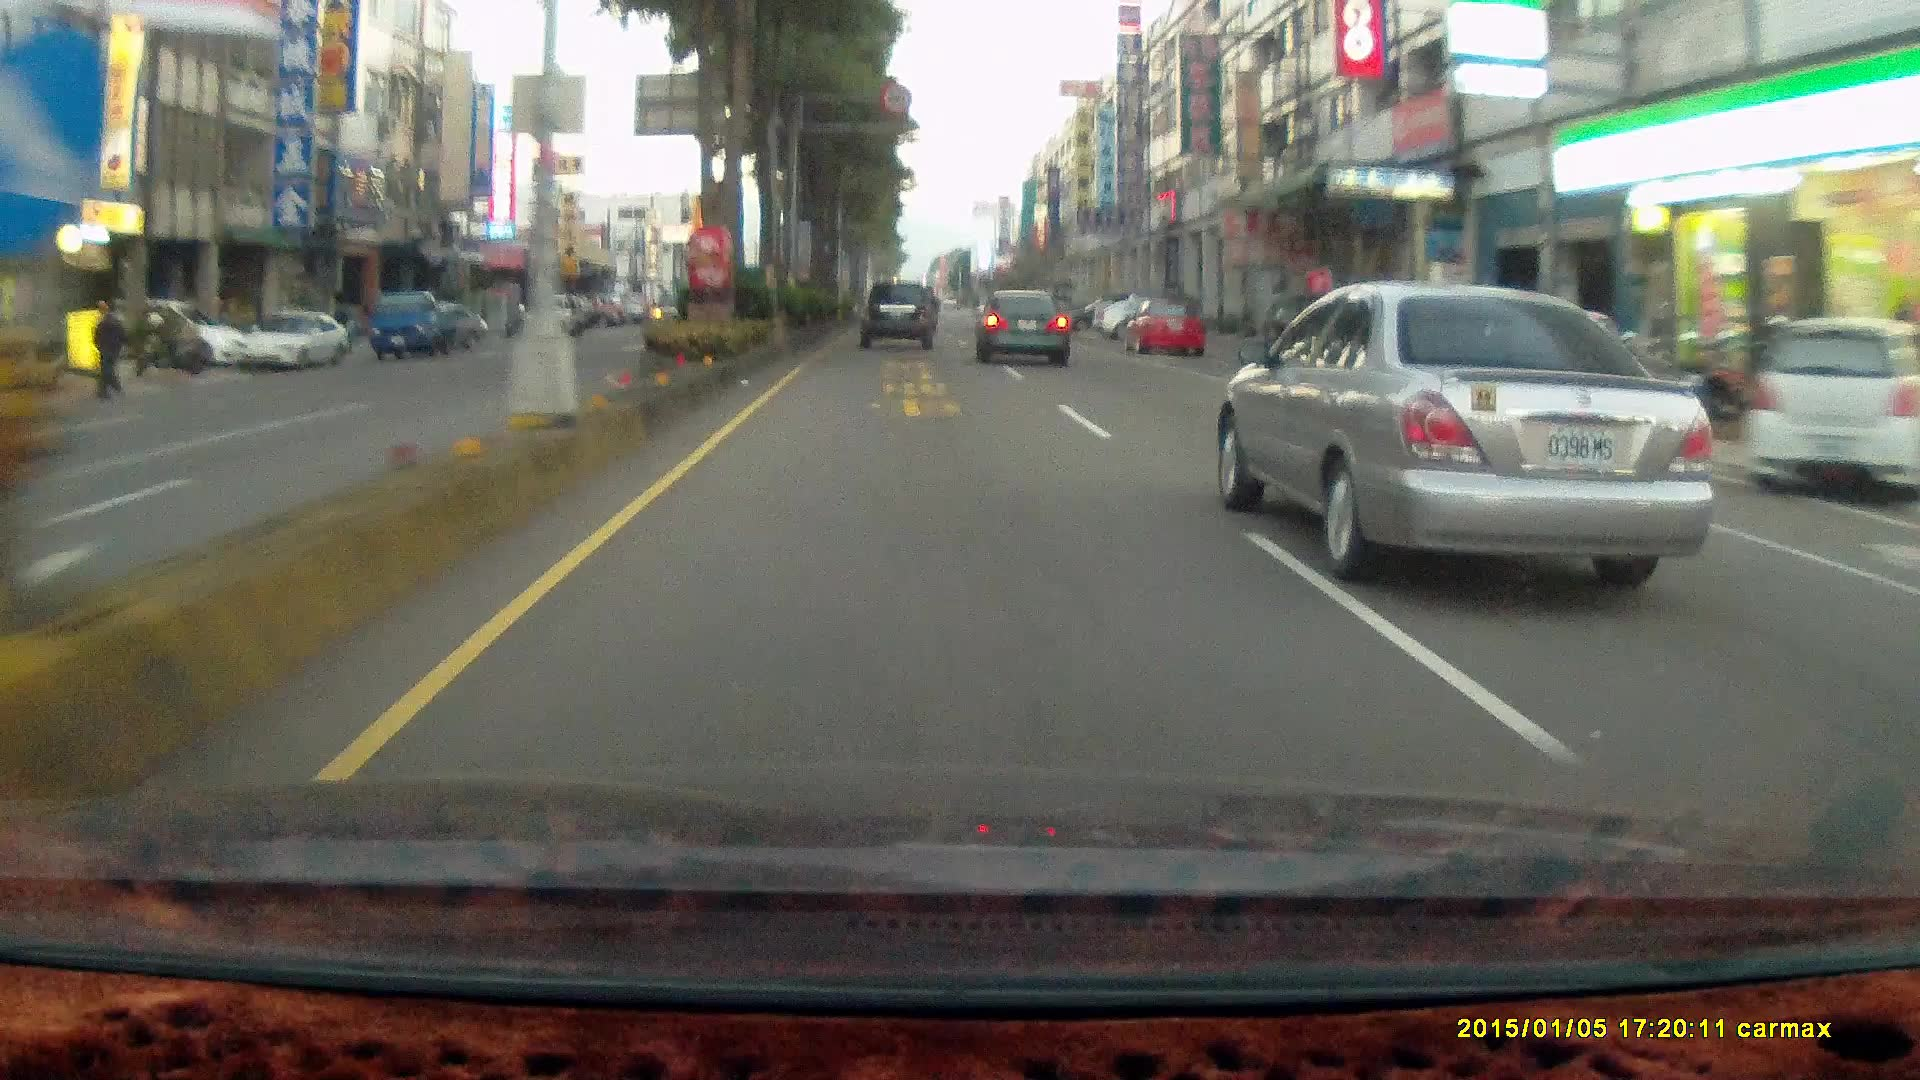pedestrian: (90, 305, 123, 400), (90, 306, 123, 400)
vehicle: (1227, 286, 1726, 579), (1742, 312, 1920, 502), (1747, 320, 1911, 498), (1466, 316, 1668, 453), (1294, 304, 1470, 391), (106, 298, 243, 369), (976, 300, 1074, 380), (236, 311, 352, 377), (973, 289, 1069, 367), (234, 310, 349, 370), (373, 295, 475, 362), (368, 293, 457, 363), (859, 279, 940, 352), (1123, 299, 1211, 362), (860, 281, 937, 351), (1119, 295, 1206, 357), (1092, 292, 1192, 340), (399, 302, 483, 348), (521, 293, 579, 341)
